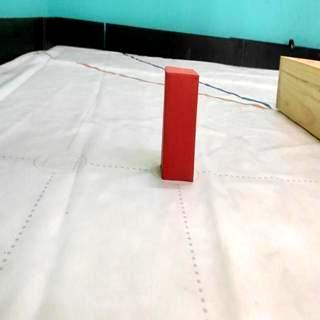redbox: (160, 65, 199, 183)
